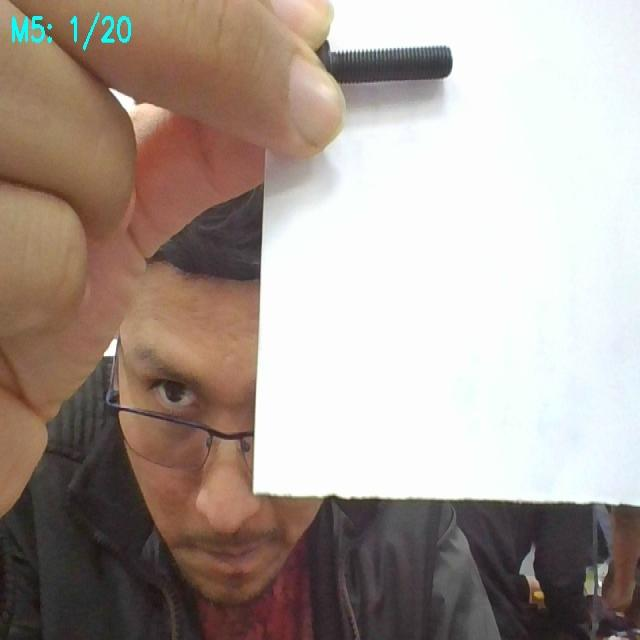vastago: (333, 47, 452, 83)
